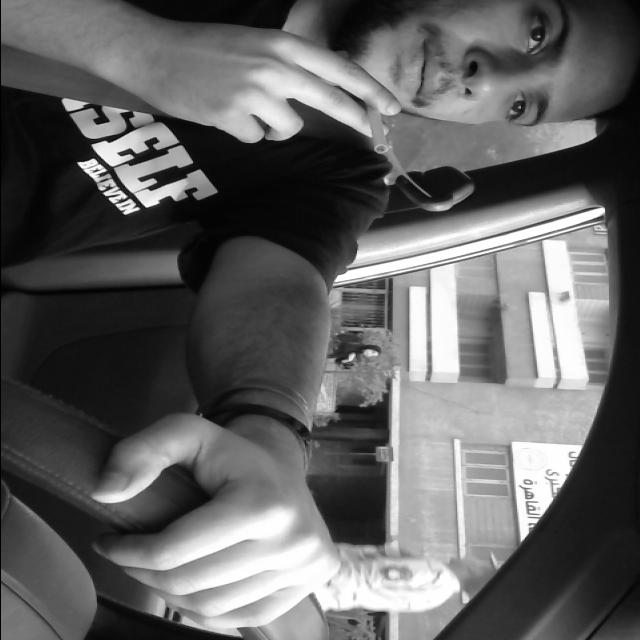smoking: (358, 86, 396, 162)
